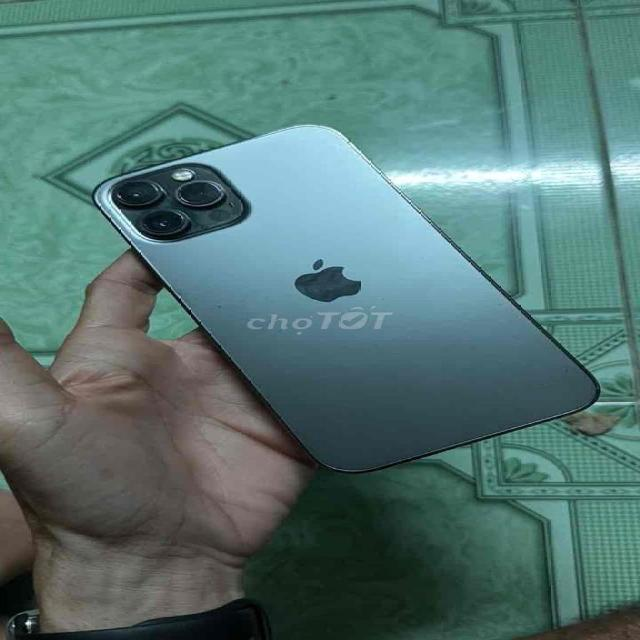gen_12_13: (95, 120, 606, 476)
